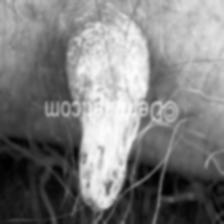Potentially Malignant Skin Tumors: (62, 32, 134, 208)
